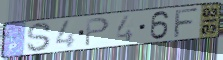4: (54, 19, 77, 50), (115, 14, 134, 43)
6: (149, 10, 170, 40)
F: (172, 7, 201, 40)
P: (84, 16, 112, 48)
S: (25, 21, 54, 53)
